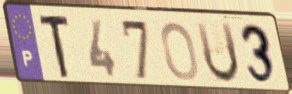3: (239, 20, 281, 87)
4: (87, 17, 119, 79)
7: (118, 17, 153, 82)
O: (159, 20, 201, 83)
T: (38, 13, 72, 81)
U: (194, 20, 242, 86)
